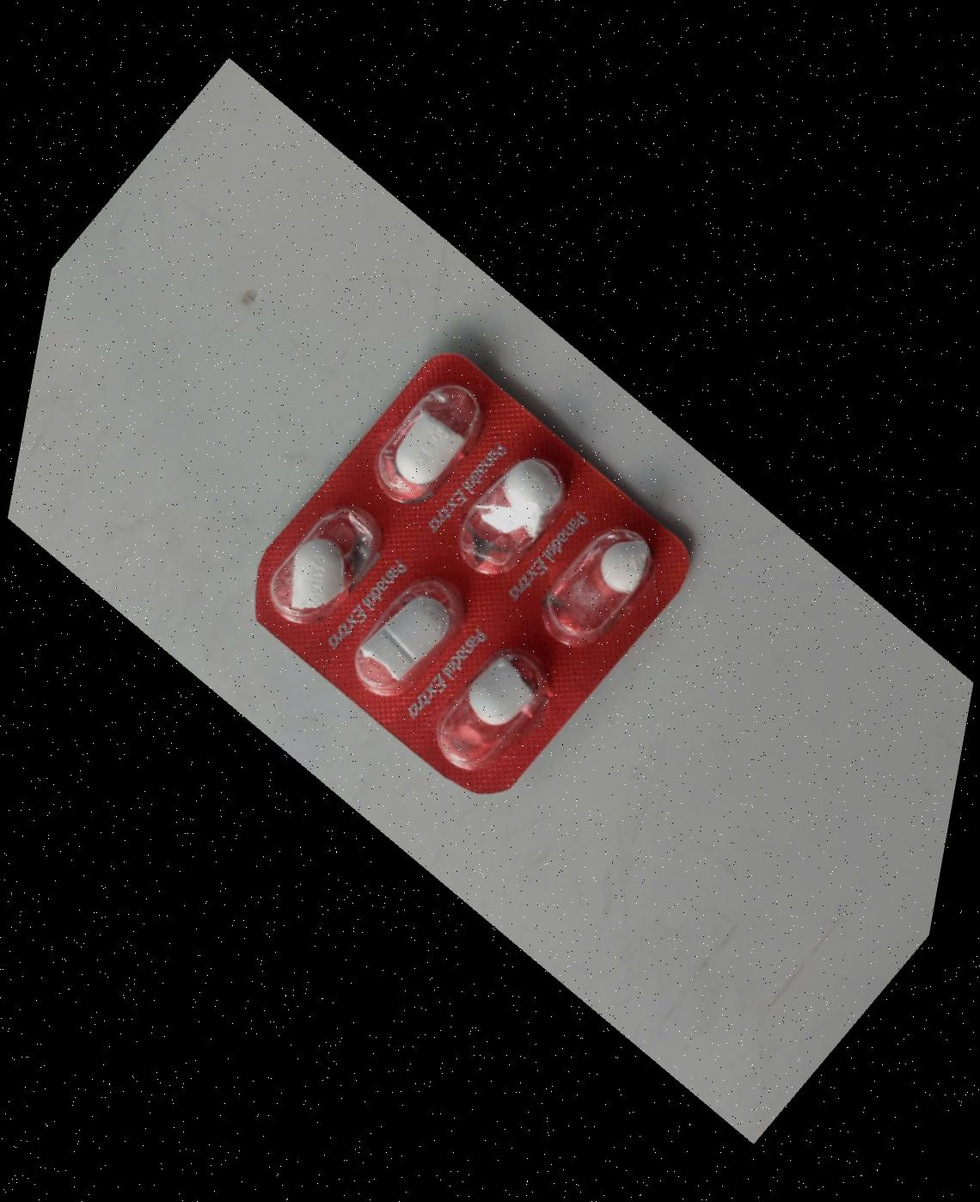Partial: (503, 489, 681, 679), (413, 434, 591, 624), (334, 347, 512, 537), (308, 557, 485, 747), (234, 462, 411, 652), (397, 627, 574, 817)
